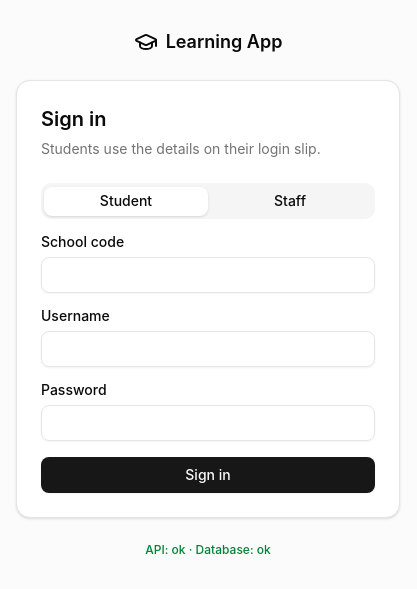
Test case: LoginPage › shows one message for wrong student credentials
Type "TST" into the field labelled "School code" at (208, 275), box [41,257,375,293]
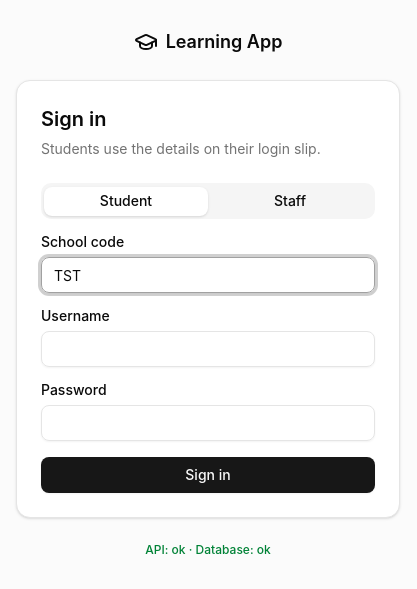
Type "nobody" into the field labelled "Username" at (208, 349), box [41,331,375,367]
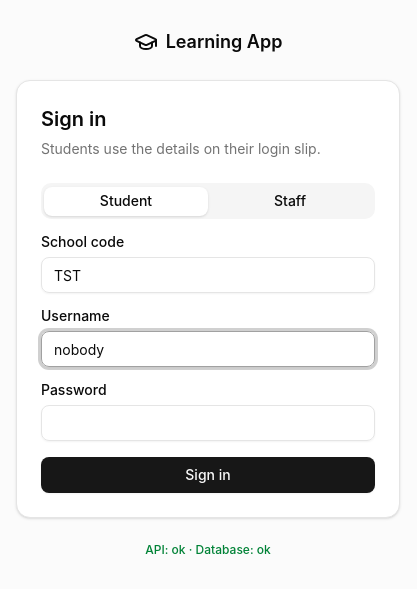
Type "wrong-pass" into the password field labelled "Password" at (208, 423), box [41,405,375,441]
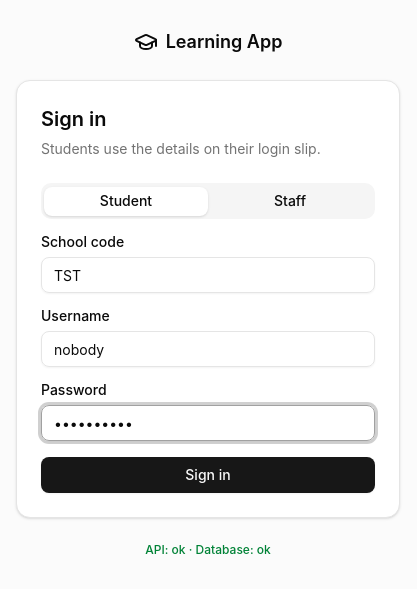
Click the button "Sign in" at (208, 475), box [41,457,375,493]
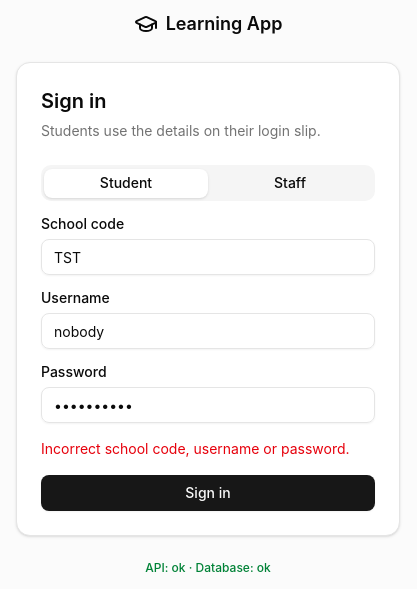
Expected: the message reads "Incorrect school code, username or password.", [41,440,350,457]
